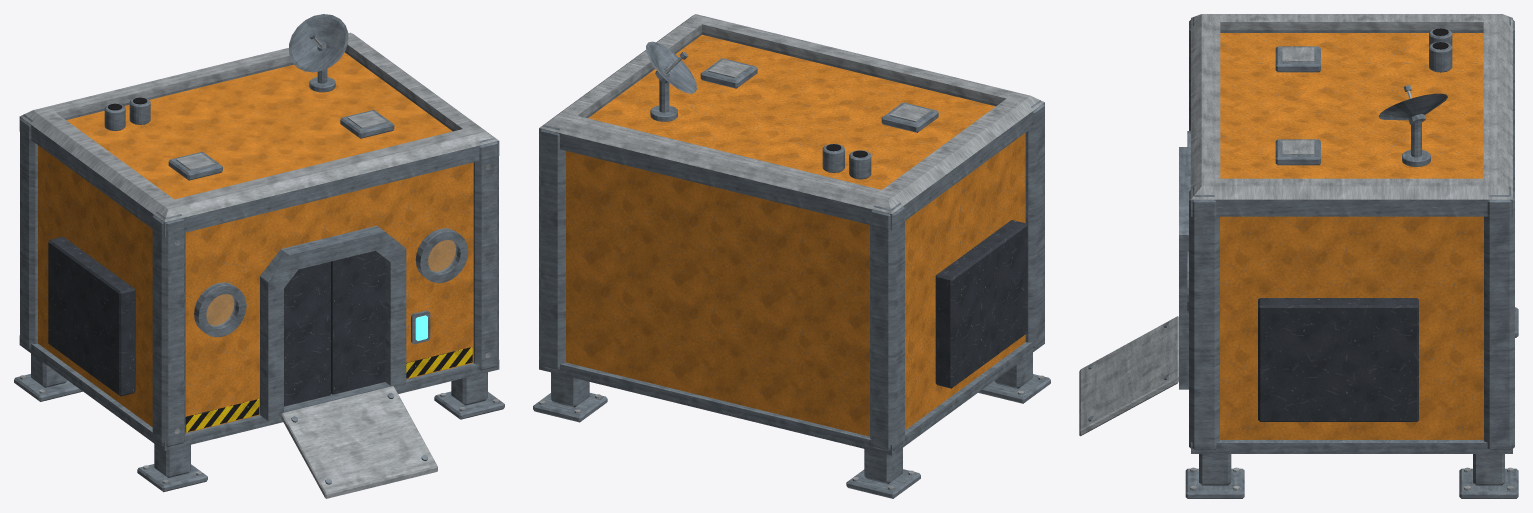
Rendered from base_hall.glb.
3 renders of one model, left to right at view 1: azimuth 30°, elevation 25°; view 2: azimuth 150°, elevation 25°; view 3: azimuth 270°, elevation 25°, orthographic. The views are drawn at different scales.
Visible parts, largest first — view 1: BaseHall_Orange, BaseHall_SteelGrey, BaseHall_SteelLight, BaseHall_Door_DarkGrey, BaseHall_DarkGrey, BaseHall_Glass, BaseHall_Black, BaseHall_Yellow; view 2: BaseHall_Orange, BaseHall_SteelGrey, BaseHall_SteelLight, BaseHall_DarkGrey; view 3: BaseHall_Orange, BaseHall_SteelGrey, BaseHall_SteelLight, BaseHall_DarkGrey.
Boxes of the visible parts, x1=… form: BaseHall_Orange: x1=38, y1=52, x2=473, y2=432; BaseHall_SteelGrey: x1=14, y1=14, x2=504, y2=492; BaseHall_SteelLight: x1=20, y1=32, x2=498, y2=498; BaseHall_Door_DarkGrey: x1=284, y1=250, x2=385, y2=406; BaseHall_DarkGrey: x1=48, y1=236, x2=135, y2=396; BaseHall_Glass: x1=206, y1=240, x2=457, y2=326; BaseHall_Black: x1=108, y1=97, x2=472, y2=431; BaseHall_Yellow: x1=185, y1=347, x2=472, y2=432; BaseHall_Orange: x1=566, y1=34, x2=1025, y2=436; BaseHall_SteelGrey: x1=533, y1=18, x2=1050, y2=498; BaseHall_SteelLight: x1=539, y1=14, x2=1044, y2=489; BaseHall_DarkGrey: x1=935, y1=220, x2=1027, y2=388; BaseHall_Orange: x1=1220, y1=33, x2=1483, y2=439; BaseHall_SteelGrey: x1=1087, y1=16, x2=1518, y2=498; BaseHall_SteelLight: x1=1079, y1=14, x2=1513, y2=490; BaseHall_DarkGrey: x1=1258, y1=298, x2=1418, y2=421.
Bounding box in the file's own units: 17.4 × 15.17 × 16.35.
Materials: 8 (6 with a texture image).
